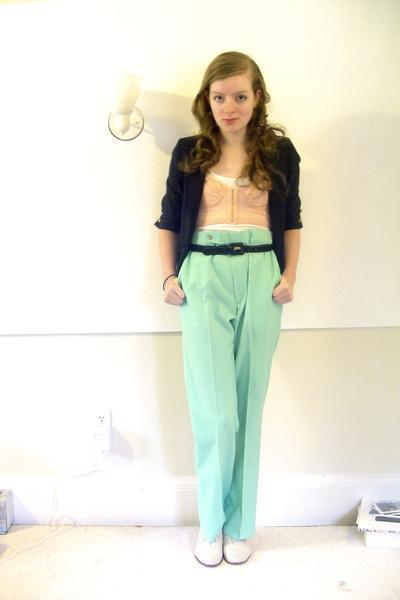jacket: (156, 136, 302, 274)
pants: (175, 222, 282, 546)
shirt: (197, 172, 267, 233)
shoe: (191, 532, 266, 568)
